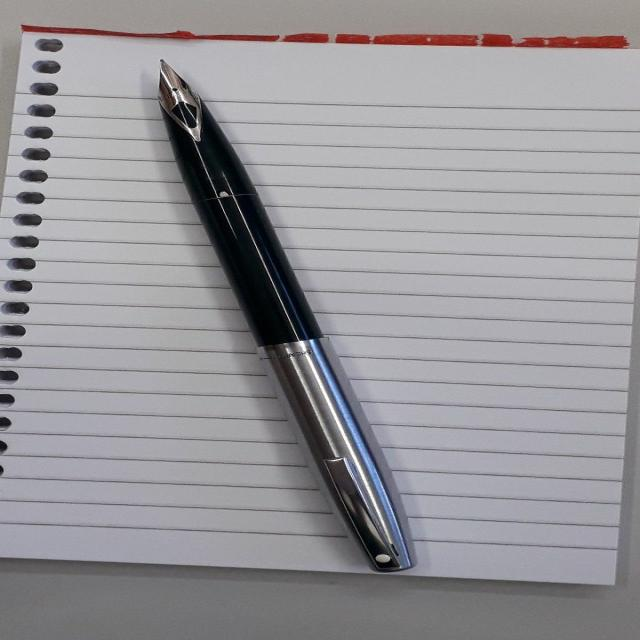book: (20, 28, 132, 562)
pen: (142, 59, 423, 575)
